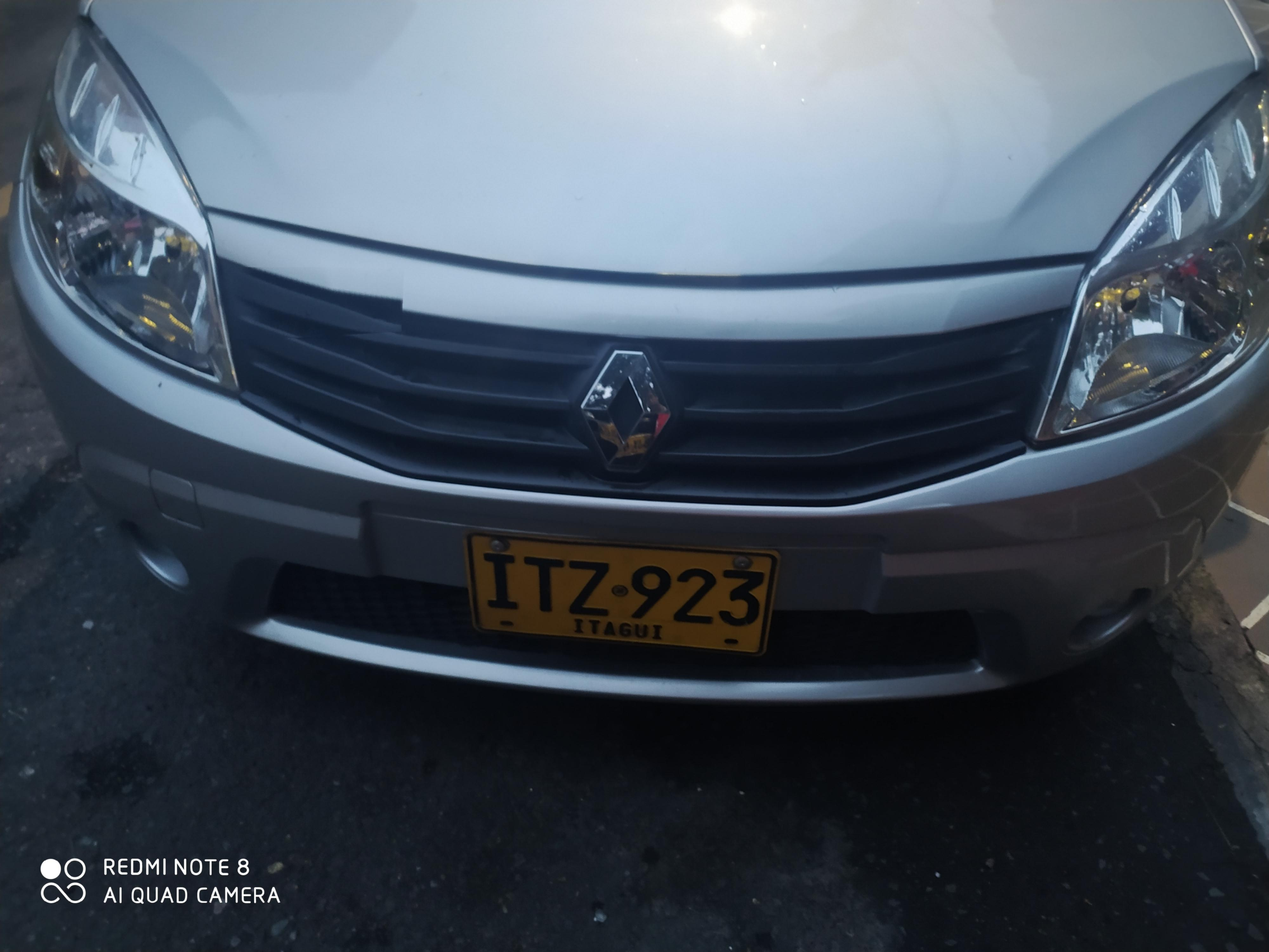placa: (448, 522, 791, 668)
